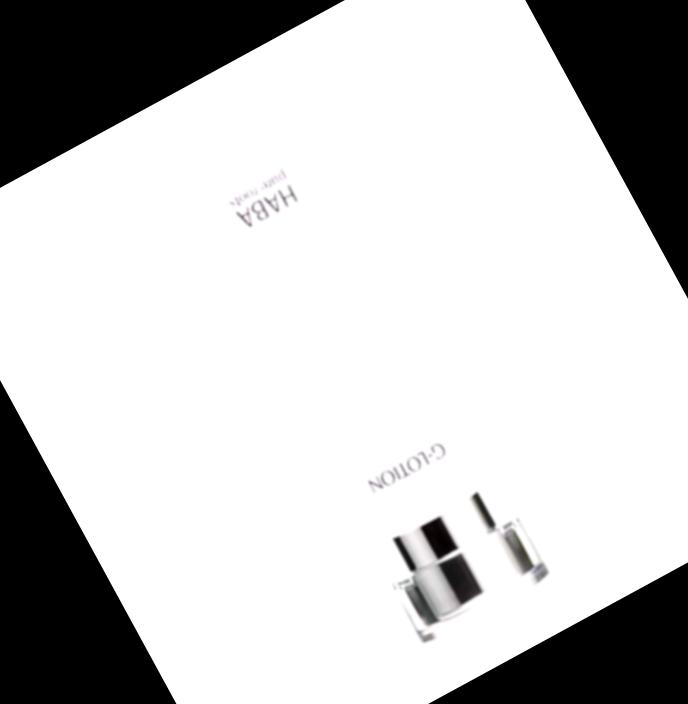cosmetic: (145, 77, 557, 651)
